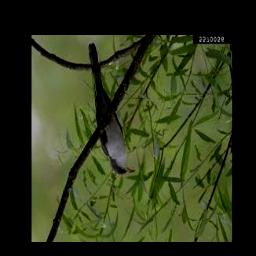Cuckoo: (88, 43, 134, 175)
